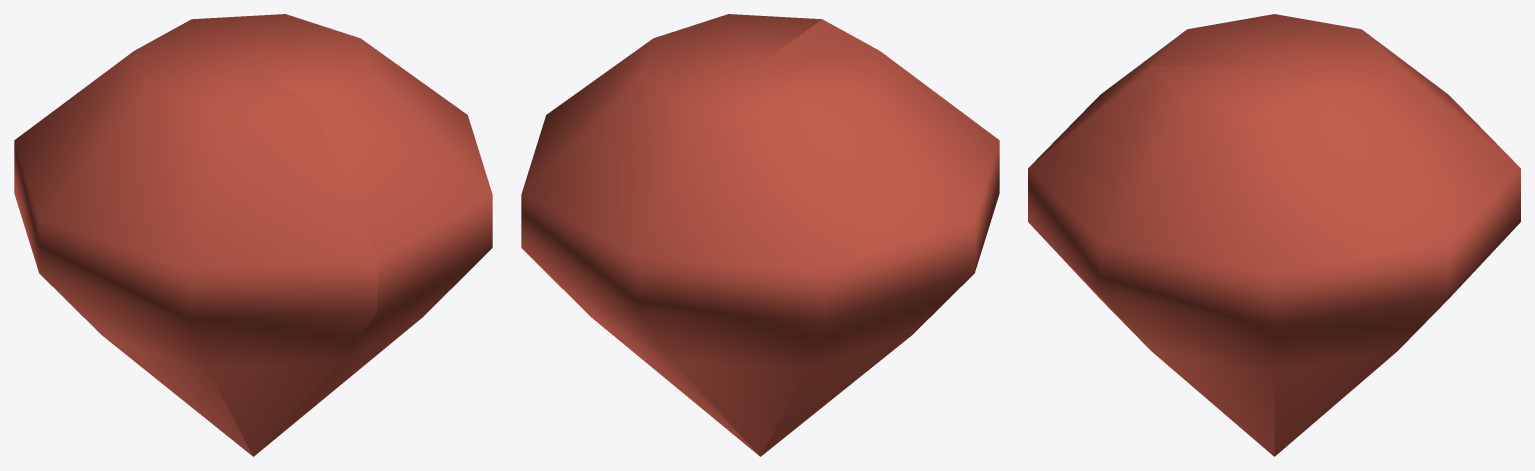
Rendered from code-gem.glb.
3 views of the same model, side by side, from view 1: azimuth 30°, elevation 25°; view 2: azimuth 150°, elevation 25°; view 3: azimuth 270°, elevation 25° (orthographic).
Visible parts, largest first — view 1: Cut_gem; view 2: Cut_gem; view 3: Cut_gem.
Part boxes in pixels (bbox=[...]): Cut_gem: bbox=[14, 14, 492, 456]; Cut_gem: bbox=[521, 14, 999, 456]; Cut_gem: bbox=[1028, 14, 1520, 456].
Bounding box in the file's own units: 0.96 × 0.84 × 0.96.
